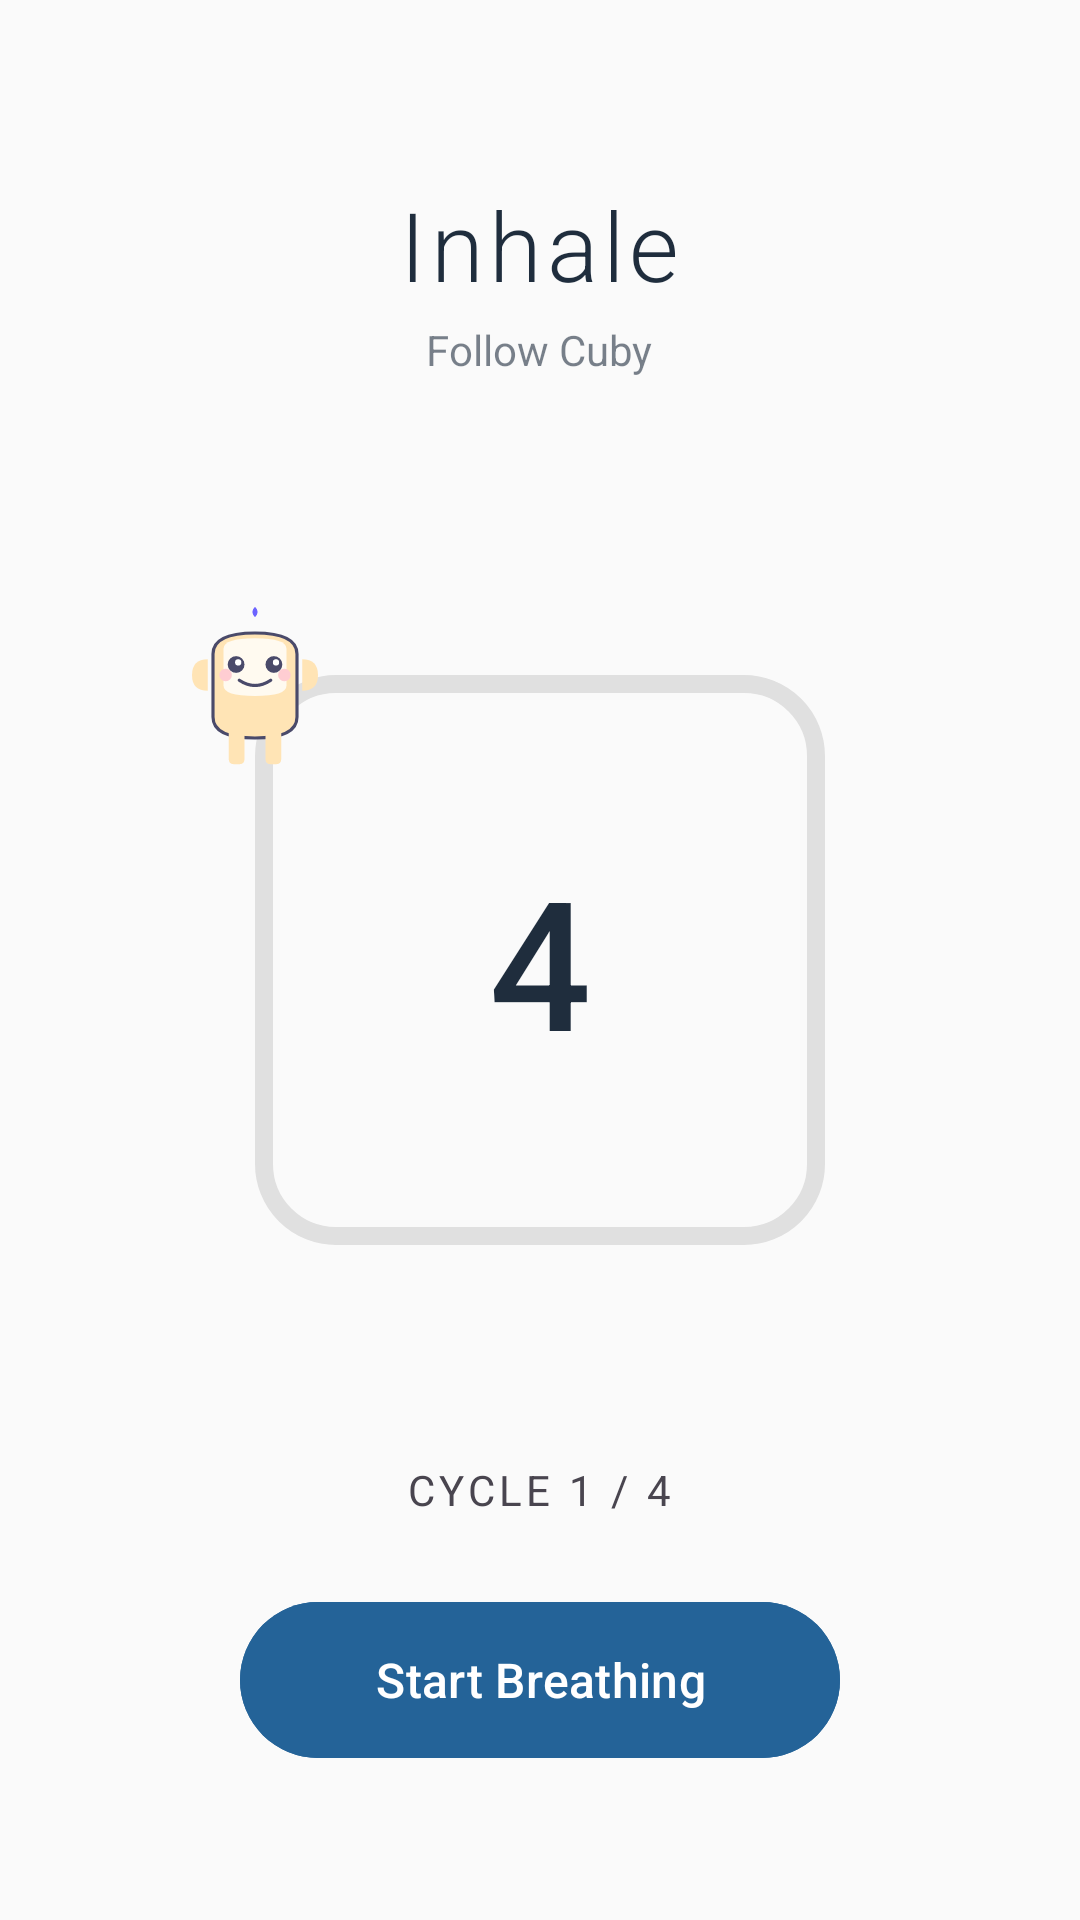

Where to tap for icons on this 1080w x 1920h app screen, as (x,y):
cuby idle: (276,693)
